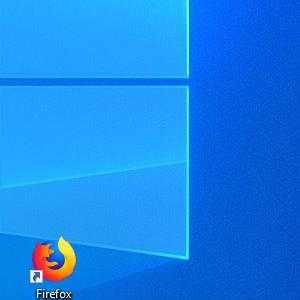firefox: (29, 235, 76, 283)
